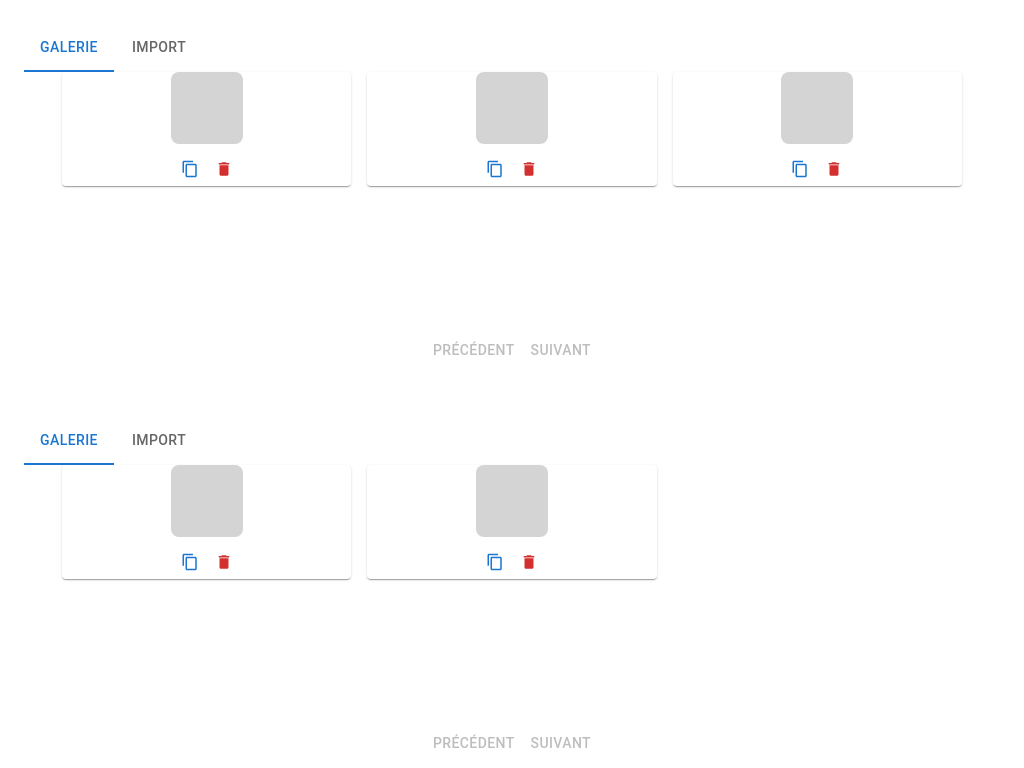
Test: ImageGallery › should delete an image and update the gallery
The width and height of the screenshot is (1024, 768).
Click the button with test id "gallery-tab-delete-".
click(224, 169)  # box [207,152,241,186]
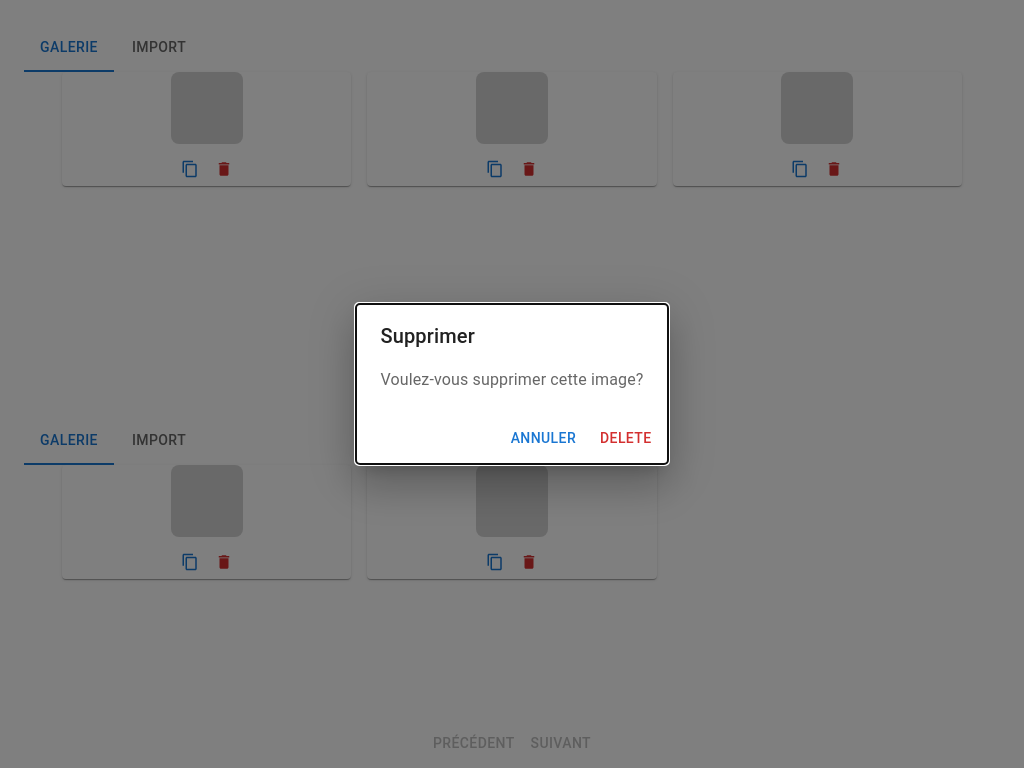
Expected: the text "Voulez-vous supprimer cette image?" is shown, [380,368,644,392]
Click the button "Delete".
click(626, 438)  # box [592,420,660,456]
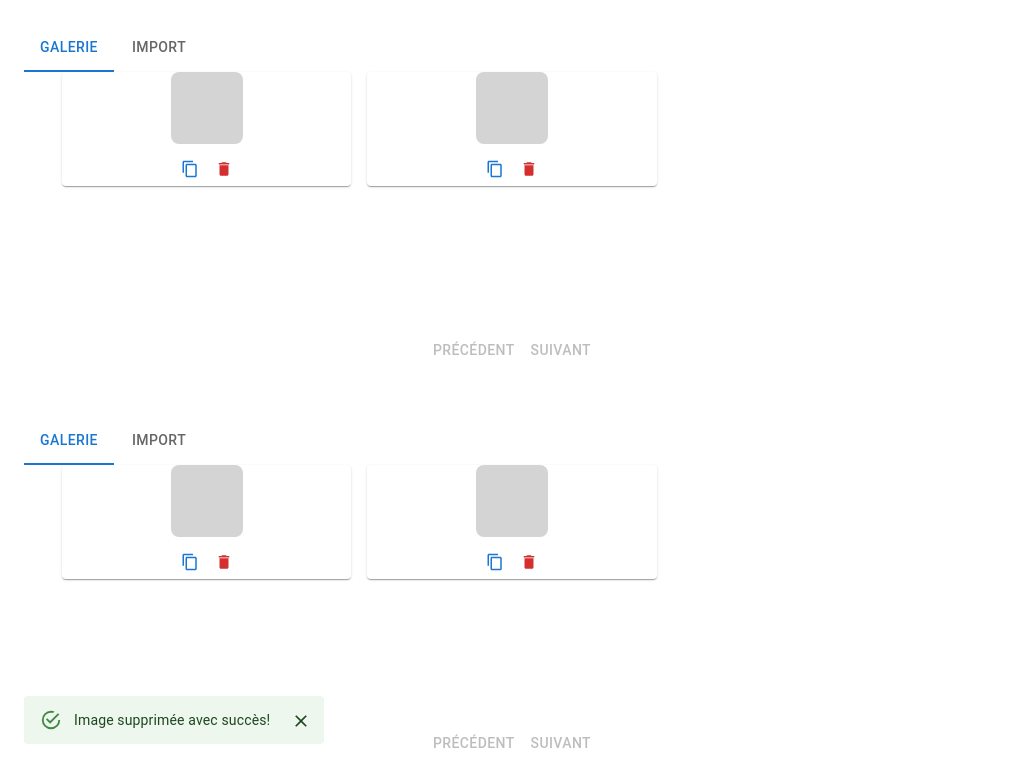
Expected: the text "Image supprimée avec succès!" is shown, [74,712,270,728]
